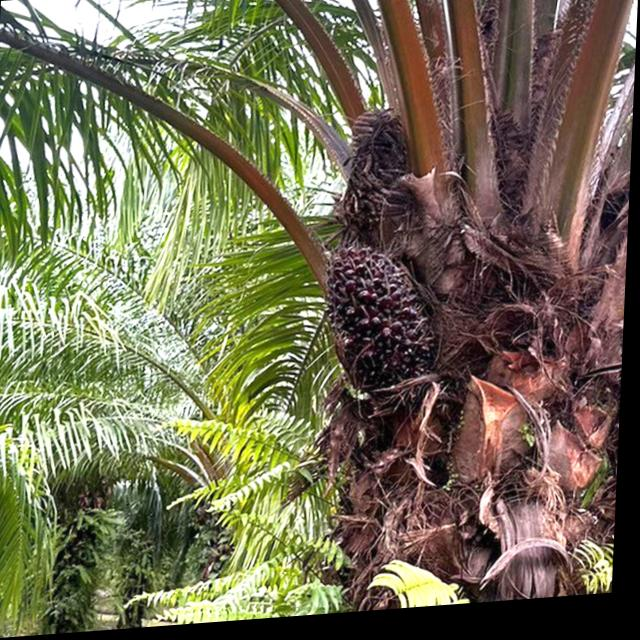ripe: (309, 228, 438, 411)
